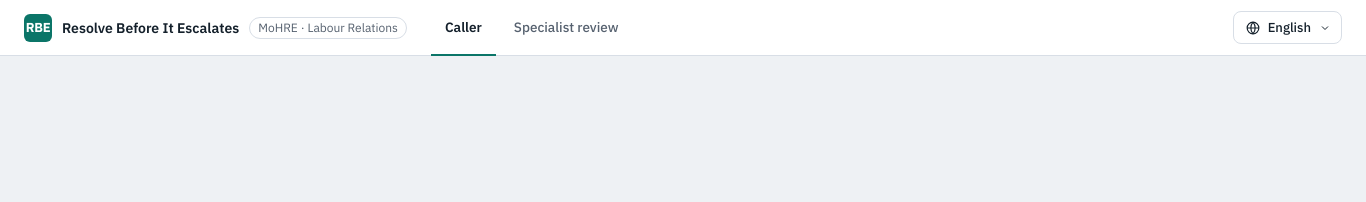
Test case: LanguageMenu › closes on Escape without changing the language
The width and height of the screenshot is (1366, 202).
Step 1. Click the button → coordinates (1287, 28), box [1233, 11, 1342, 44]
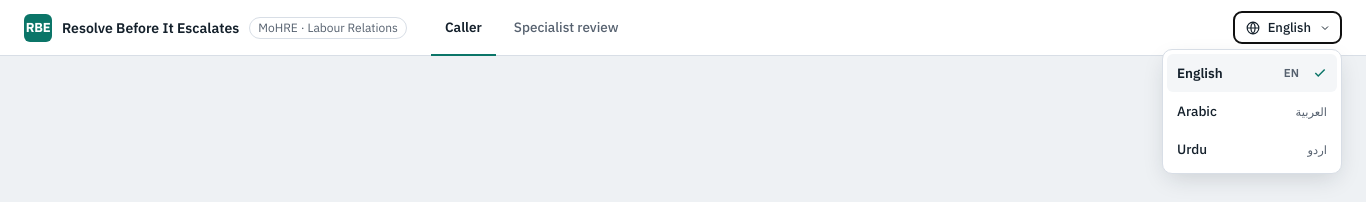
Step 2. Press Escape
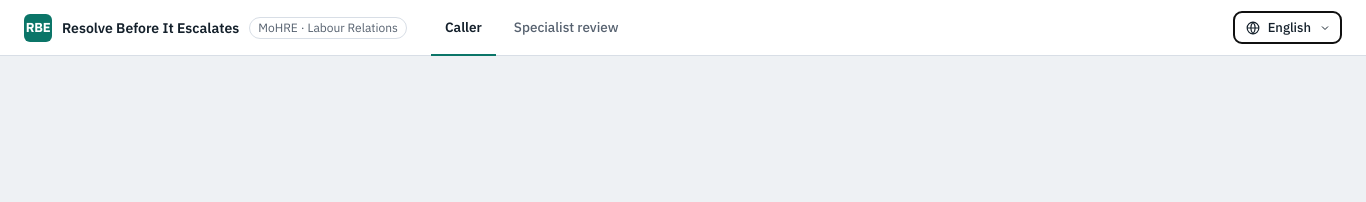
Expected: the button reads "English", [1233, 11, 1342, 44]
Result: the list is gone
